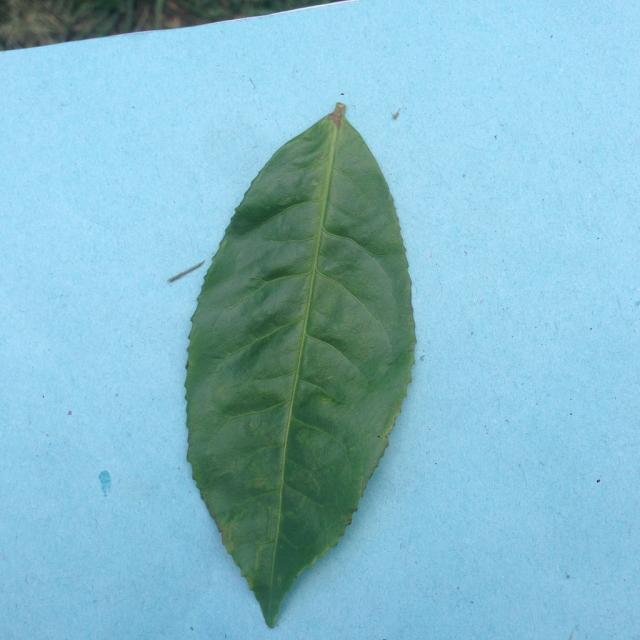Healthy: (155, 73, 429, 632)
